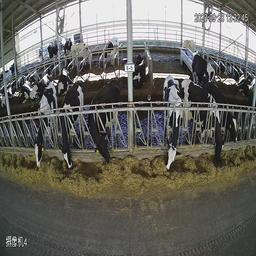cow: (183, 77, 225, 165), (88, 74, 119, 172), (157, 71, 181, 173), (59, 80, 82, 172), (35, 77, 55, 165), (190, 53, 219, 84), (100, 30, 121, 69), (131, 47, 147, 97), (70, 43, 99, 69), (180, 29, 203, 56), (28, 73, 49, 101), (62, 38, 74, 64), (45, 43, 61, 62)
